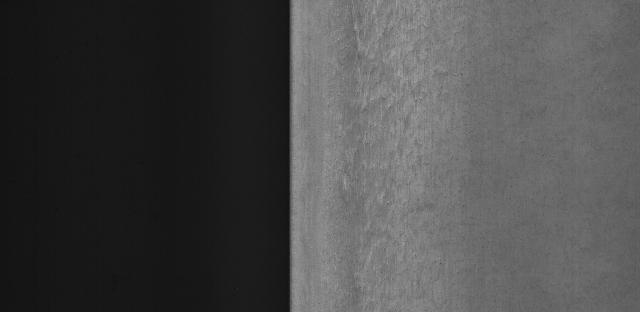silk_spot: (329, 10, 464, 293)
